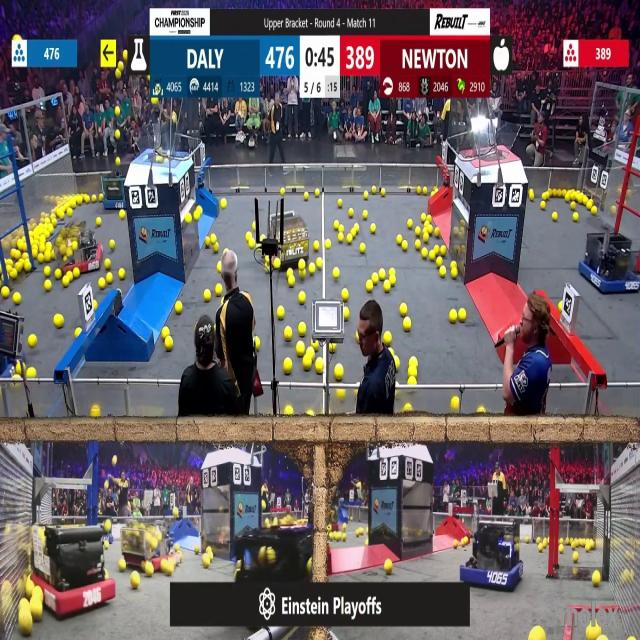ball_airborne: (114, 106, 120, 116), (155, 152, 161, 162), (115, 70, 121, 79), (172, 112, 178, 121), (115, 130, 120, 140), (122, 51, 127, 60), (151, 97, 158, 103), (112, 456, 116, 466), (118, 60, 123, 68), (116, 159, 120, 167)
ball_ground: (21, 616, 33, 636), (530, 628, 544, 640), (592, 571, 602, 586), (315, 358, 324, 373), (336, 363, 344, 379), (284, 358, 292, 374), (132, 572, 140, 588), (304, 356, 313, 370), (384, 560, 392, 575), (296, 342, 304, 357), (165, 562, 174, 575), (298, 322, 306, 336), (56, 314, 64, 328), (146, 563, 154, 577), (92, 408, 101, 420), (452, 396, 459, 411), (402, 318, 410, 331), (384, 333, 392, 346), (29, 336, 37, 349), (284, 327, 292, 340), (195, 208, 202, 222), (459, 309, 466, 322), (451, 310, 458, 323), (27, 366, 36, 376), (409, 366, 418, 376), (12, 292, 20, 303), (370, 273, 378, 284), (175, 303, 182, 315), (399, 305, 406, 317), (204, 556, 211, 568), (342, 288, 349, 300), (166, 339, 173, 351), (106, 273, 113, 285), (25, 262, 32, 274), (274, 257, 281, 269), (63, 276, 70, 288), (316, 257, 323, 269), (284, 408, 292, 418), (309, 264, 317, 274), (10, 249, 18, 259), (278, 305, 284, 318), (339, 389, 346, 400), (331, 269, 338, 280), (298, 291, 304, 303), (344, 309, 350, 321), (205, 289, 211, 301), (100, 278, 106, 290), (44, 280, 50, 292), (15, 362, 21, 374), (254, 339, 260, 351), (2, 287, 9, 297), (298, 262, 305, 272), (163, 327, 170, 337), (347, 235, 354, 245), (421, 248, 428, 258), (571, 212, 578, 222), (210, 235, 217, 245), (109, 240, 116, 250), (44, 251, 51, 261), (216, 284, 222, 295), (118, 560, 124, 571), (359, 243, 365, 254), (380, 270, 386, 281), (401, 240, 407, 251), (441, 268, 447, 279), (314, 241, 320, 252), (365, 281, 371, 292), (409, 378, 417, 386), (411, 357, 418, 366), (10, 271, 17, 280), (185, 214, 192, 223), (328, 344, 335, 353), (205, 238, 212, 247), (461, 536, 468, 545), (331, 220, 338, 229), (406, 405, 413, 414), (118, 270, 124, 280), (452, 270, 458, 280), (288, 277, 294, 287), (74, 270, 80, 280), (74, 327, 80, 337), (384, 282, 390, 292), (416, 240, 422, 250), (44, 268, 50, 278), (105, 260, 111, 270), (572, 552, 578, 562), (423, 234, 429, 244), (390, 276, 396, 286), (396, 236, 402, 246), (38, 252, 44, 262), (542, 190, 548, 200), (572, 567, 578, 577), (433, 246, 439, 256), (587, 200, 593, 210), (428, 251, 434, 261), (32, 248, 38, 258), (478, 408, 486, 415), (425, 226, 432, 234), (216, 264, 222, 273), (362, 210, 368, 219), (56, 271, 62, 280), (348, 208, 354, 217), (220, 200, 226, 209), (339, 222, 345, 231), (408, 219, 414, 228), (421, 214, 427, 223), (287, 269, 293, 278), (416, 229, 422, 238), (246, 233, 252, 242), (67, 208, 73, 217), (173, 510, 179, 519), (237, 560, 243, 569), (395, 358, 400, 368), (442, 246, 447, 256), (529, 189, 534, 199), (314, 341, 319, 351), (452, 262, 458, 270), (539, 202, 545, 210), (570, 202, 576, 210), (315, 188, 321, 196), (452, 539, 458, 547), (390, 269, 396, 277), (370, 223, 375, 232), (553, 212, 558, 221), (339, 234, 344, 243), (119, 211, 124, 220), (97, 217, 102, 226), (354, 223, 359, 232), (436, 259, 441, 268), (327, 238, 332, 247), (250, 240, 255, 249), (434, 229, 439, 238), (93, 193, 98, 202), (565, 195, 571, 202), (370, 186, 376, 193), (416, 186, 422, 193), (84, 197, 90, 204), (524, 535, 530, 542), (586, 543, 592, 550), (214, 242, 218, 252), (194, 544, 199, 552), (266, 255, 271, 263), (592, 207, 597, 215), (381, 188, 386, 196), (259, 236, 264, 244), (266, 520, 271, 528), (252, 221, 256, 230), (308, 412, 314, 418), (363, 191, 368, 198), (537, 543, 542, 550), (423, 187, 428, 194), (175, 543, 180, 550), (339, 200, 343, 208), (305, 192, 309, 200), (560, 544, 564, 552), (280, 187, 284, 195), (357, 530, 361, 538), (364, 539, 368, 546), (100, 193, 104, 200), (105, 541, 109, 548), (208, 545, 212, 552), (600, 636, 606, 640), (536, 536, 540, 542)
goal: (465, 121, 521, 160), (128, 130, 188, 161)
robot_blue: (236, 527, 323, 622), (466, 519, 523, 591), (580, 232, 638, 294), (102, 163, 128, 209), (342, 481, 368, 508)
robot_red: (34, 526, 114, 614), (121, 515, 175, 570), (262, 215, 312, 267), (54, 220, 100, 274)
